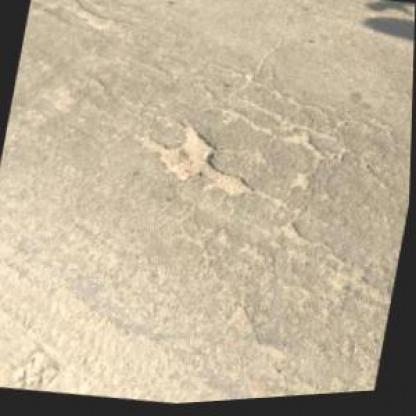pothole: (127, 114, 264, 208)
